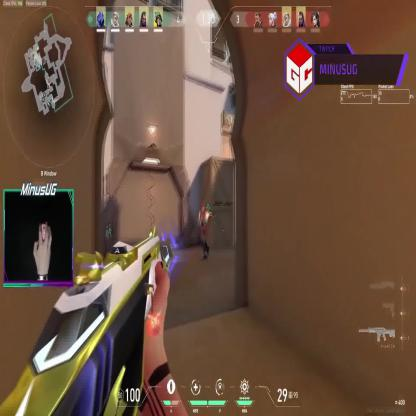enemy: (196, 201, 209, 260)
enemy_head: (201, 202, 206, 212)
